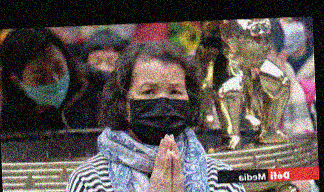with_mask: (124, 79, 193, 146), (21, 55, 70, 110)
